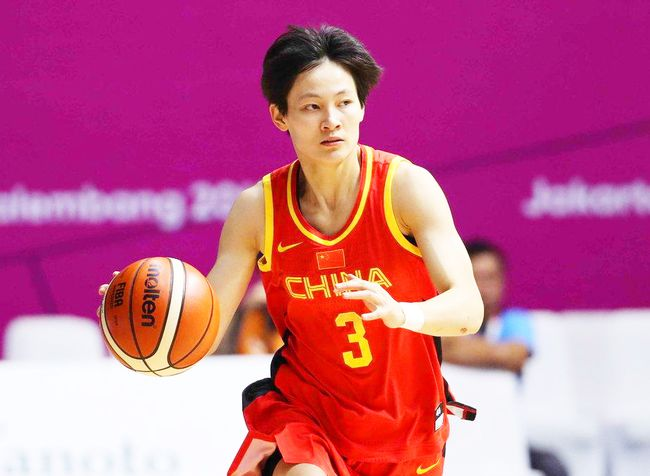ball: (98, 255, 221, 380)
